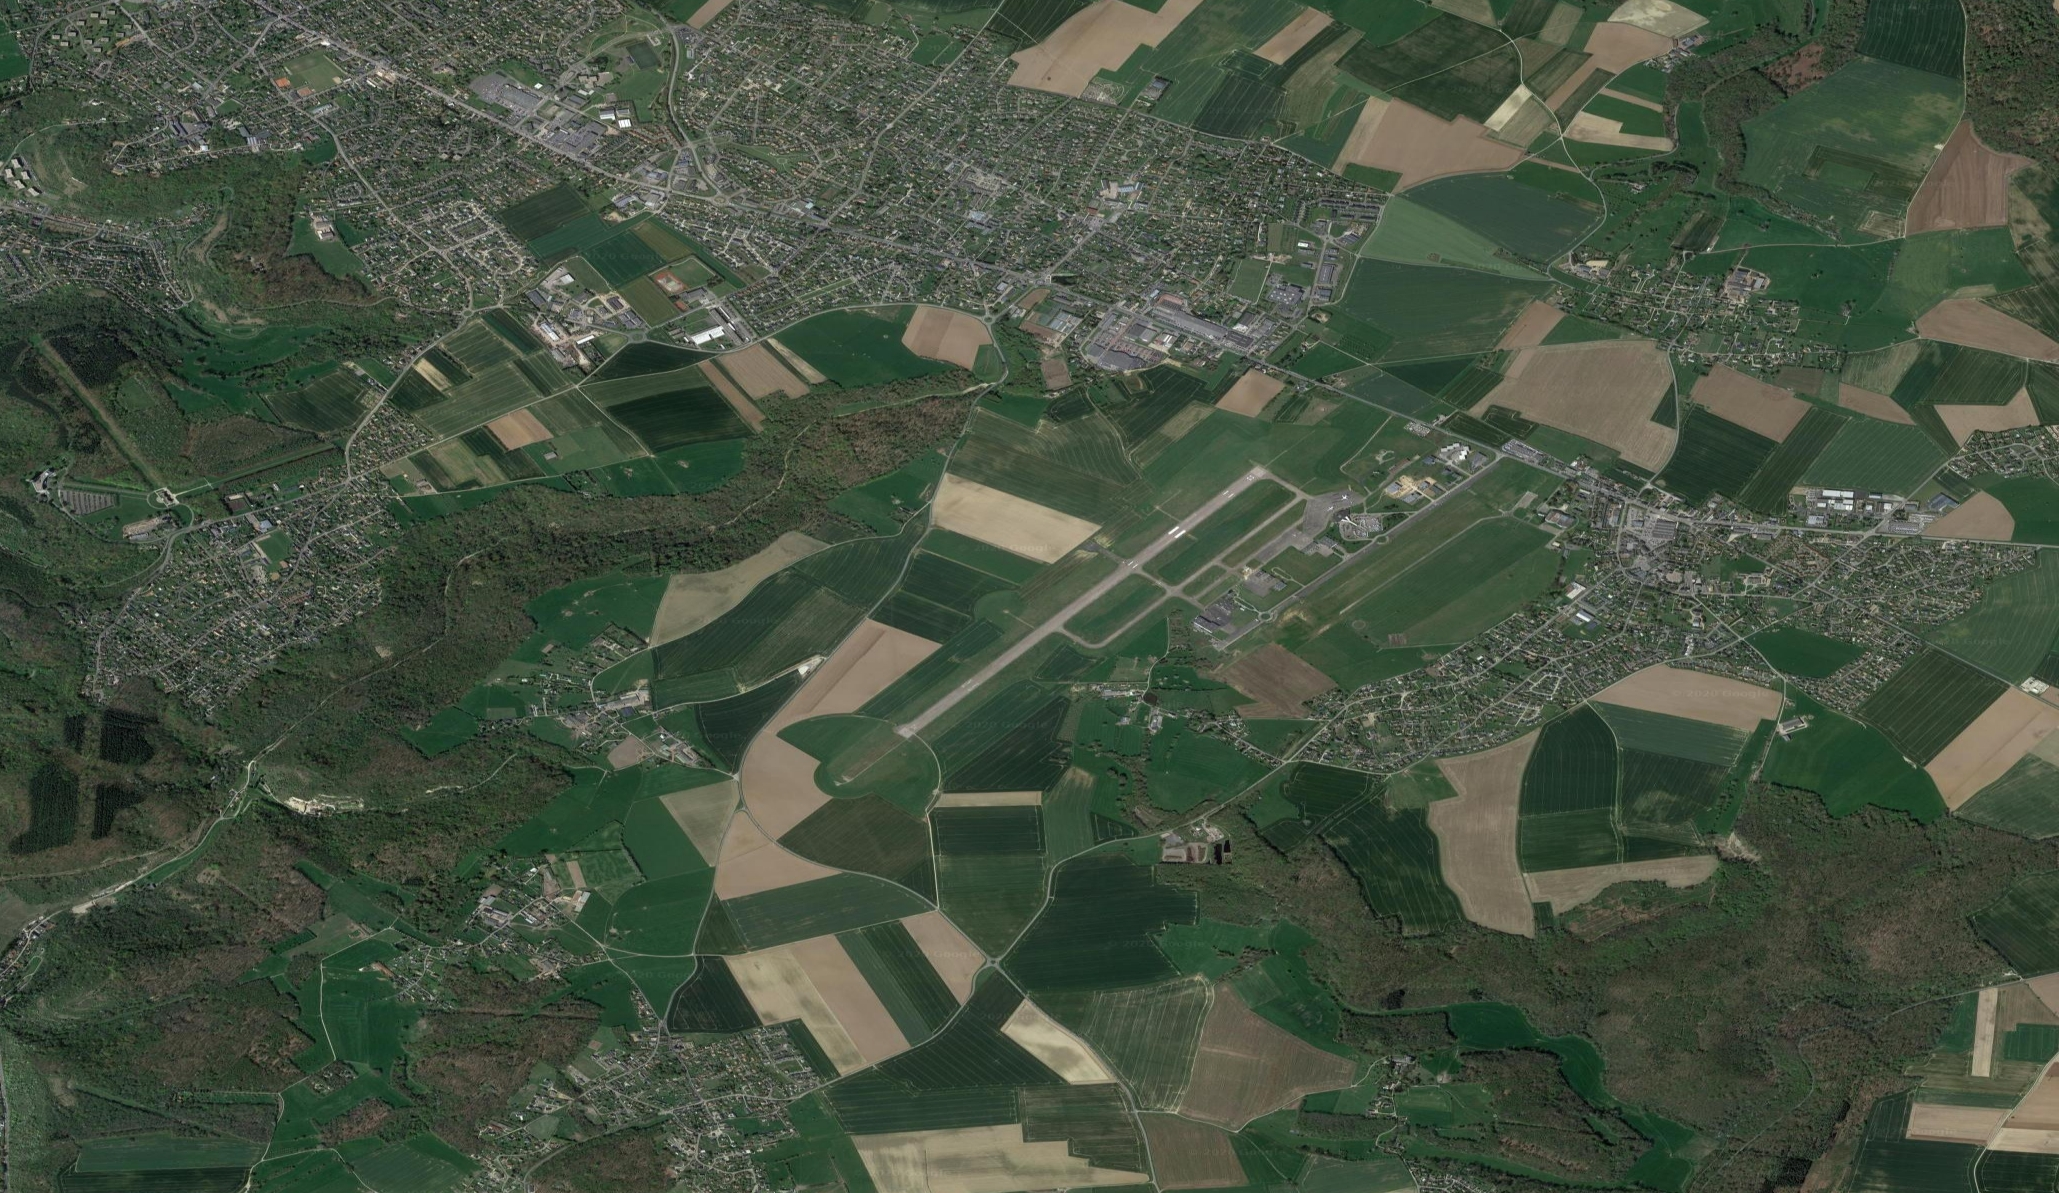airport: (887, 457, 1383, 741)
